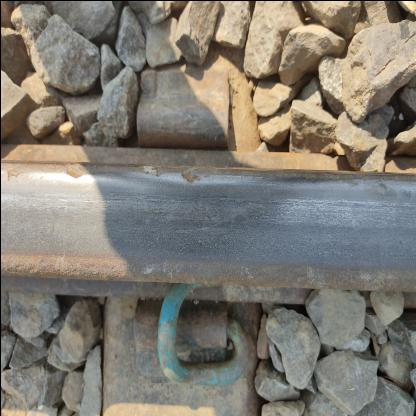Defective 1: (105, 52, 235, 166)
Non Defective 1: (118, 264, 260, 402)
